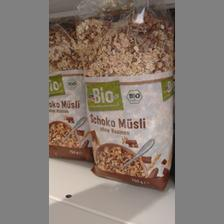Cerealien: (75, 10, 174, 192), (47, 18, 93, 162)
